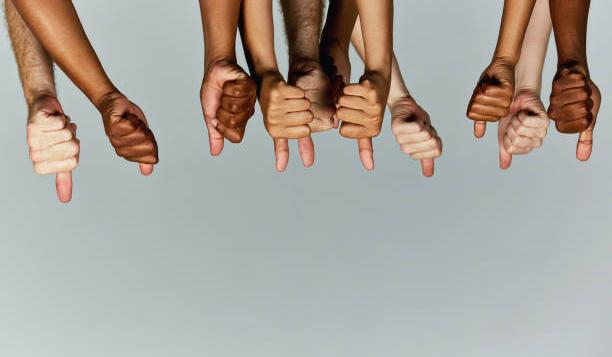thumbsdown: (24, 96, 82, 204), (198, 62, 259, 158), (548, 62, 604, 162), (102, 93, 160, 179), (262, 82, 313, 172), (338, 81, 383, 172), (392, 102, 444, 179), (299, 66, 336, 169), (497, 100, 549, 172), (465, 70, 516, 140)
